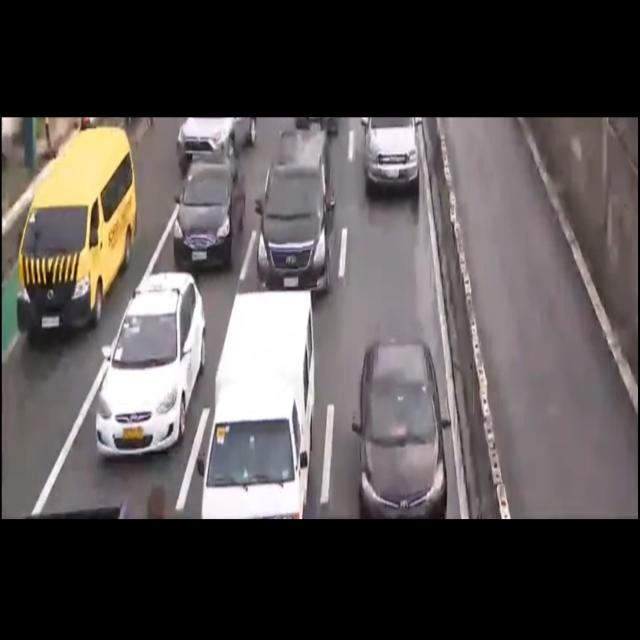Pick-up: (202, 284, 316, 520)
SUV: (355, 116, 427, 197)
Sedan: (92, 268, 206, 448), (356, 332, 452, 518), (171, 158, 245, 270)
Van: (16, 127, 137, 344), (257, 132, 339, 302)
